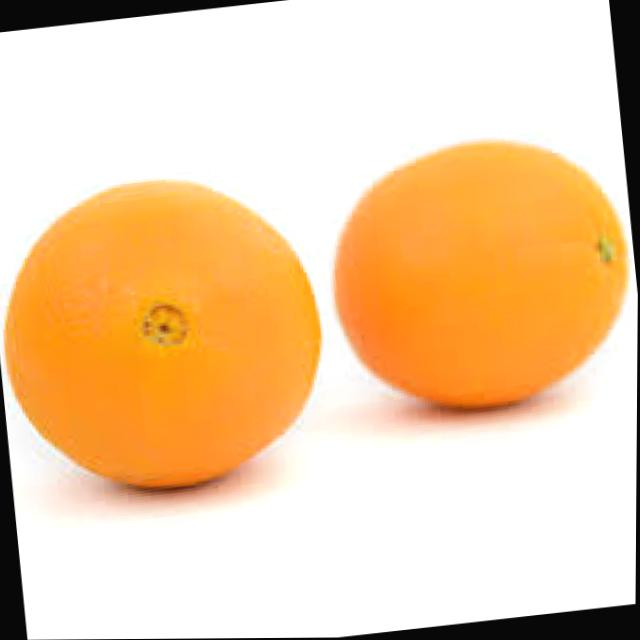orange: (0, 159, 341, 517), (319, 126, 639, 427)
